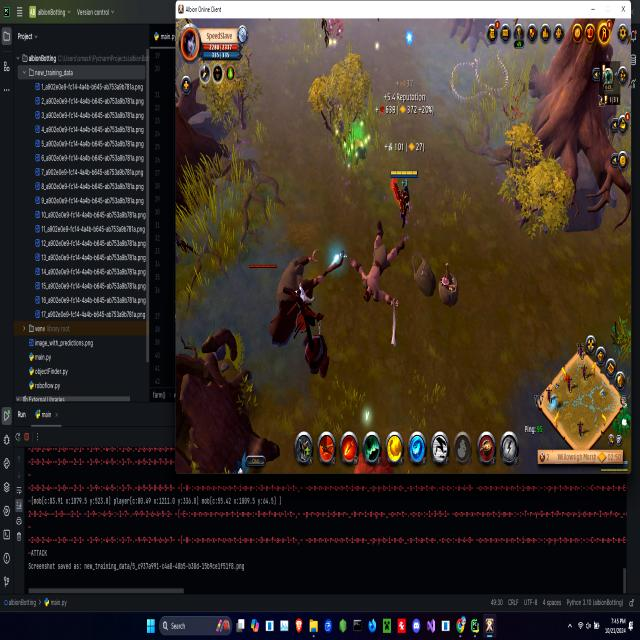hide: (323, 19, 347, 45)
ore: (245, 244, 350, 357)
red: (388, 164, 422, 232)
